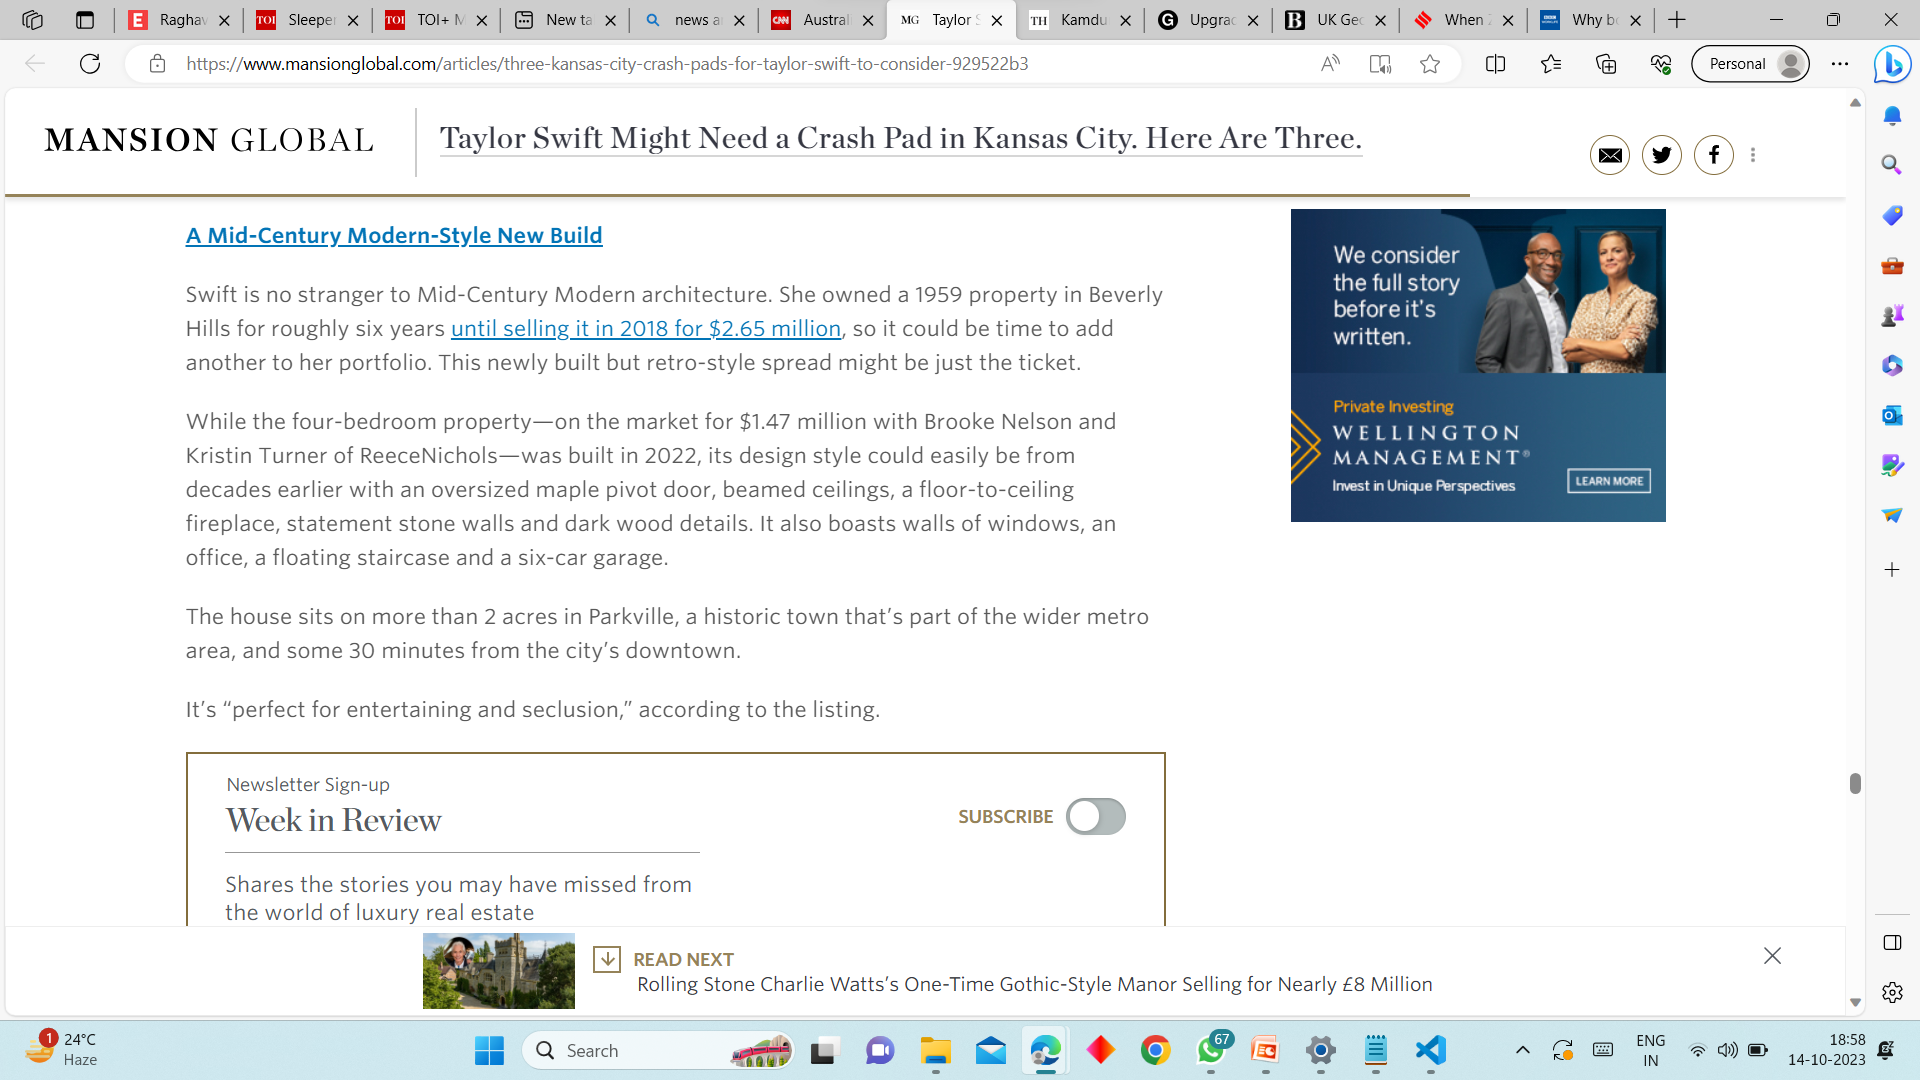Image: (183, 745, 1172, 926), (1273, 195, 1668, 525), (409, 932, 1556, 1025), (1563, 103, 1635, 183), (1636, 107, 1687, 179), (1693, 121, 1738, 193), (1739, 135, 1759, 174)
Paragraph: (167, 407, 1145, 559), (174, 276, 1170, 382), (183, 599, 1167, 666), (425, 103, 1395, 170), (179, 682, 897, 731), (26, 99, 398, 179), (183, 215, 624, 266)
